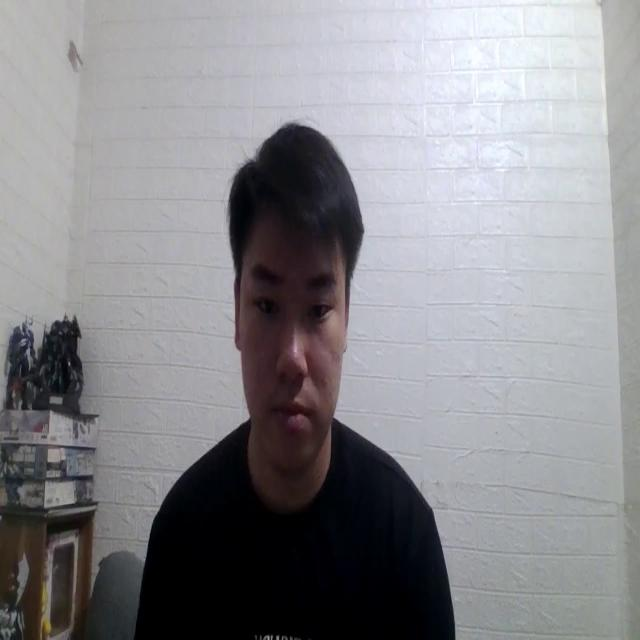student: (138, 126, 457, 640)
